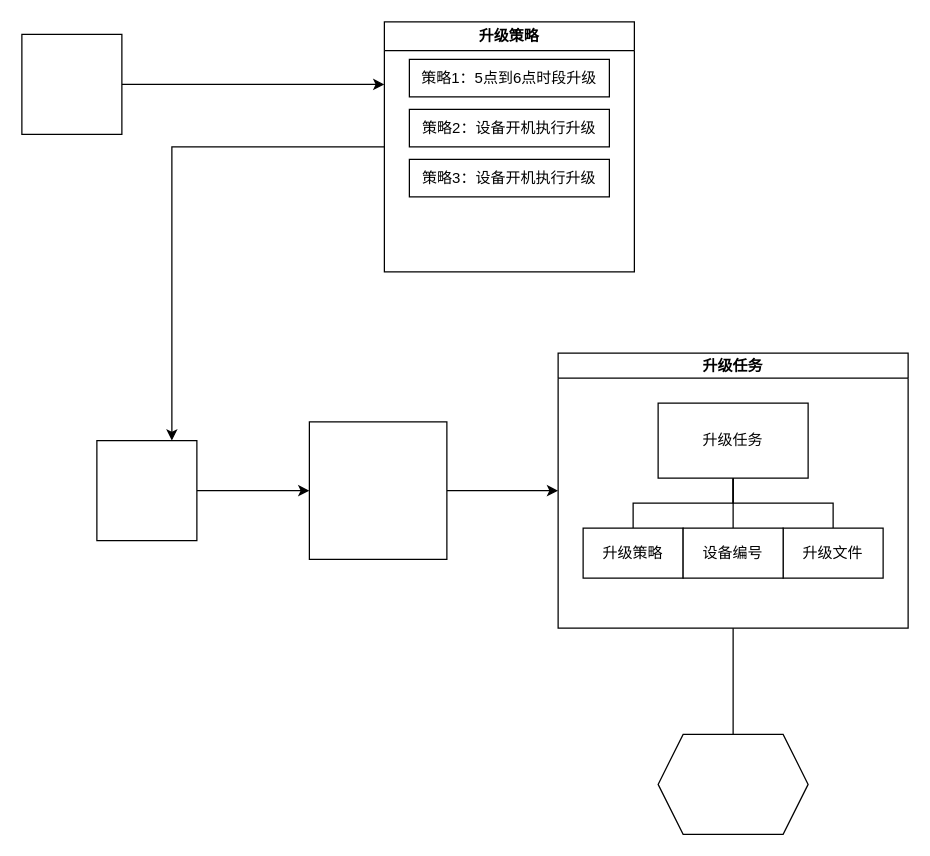
The diagram is 930 pixels wide and 856 high, and some of its shapes have lost their labels. Each missing label, with the centre of its shape:
制作策略: [71,83]
升级任务，每个设备绑定对应的升级策略，任务和策略分离，保证策略修改不影响当前正在执行的任务: [377,490]
升级服务端: [732,783]
选中合适策略，制作任务: [146,490]
